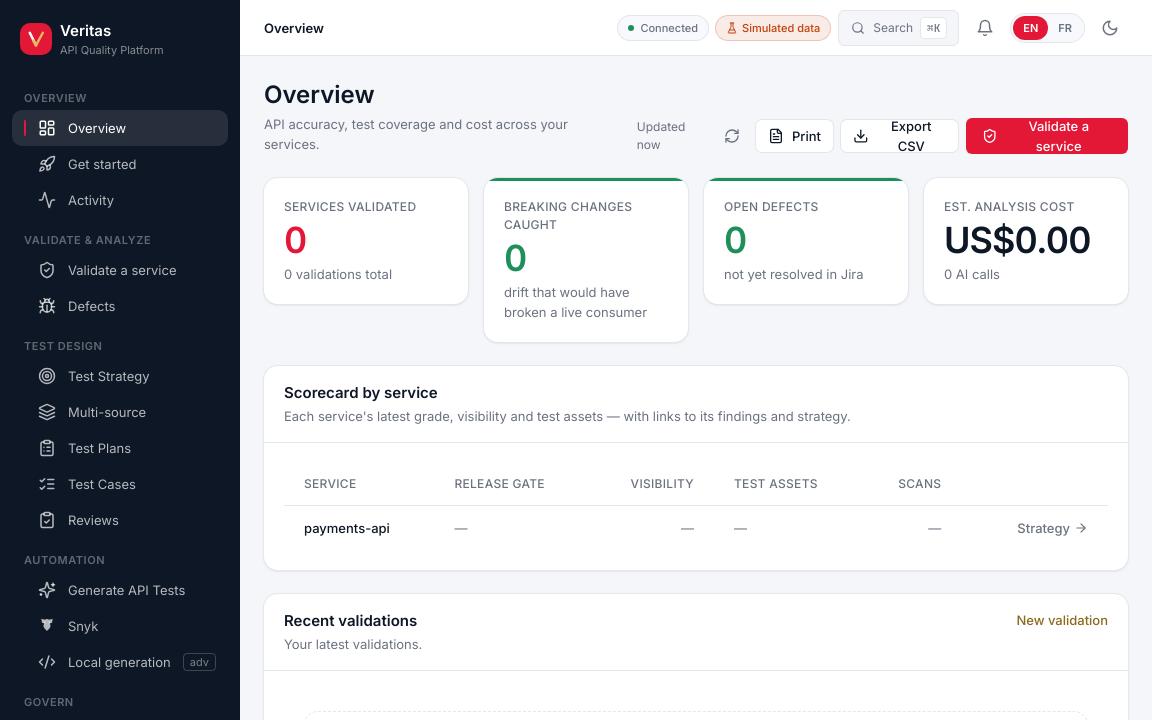
Scenario: Command palette › lists services from the catalog as jump targets
The image size is (1152, 720).
Expected: the heading "Overview" is shown, [264,80,374,109]
Click the button "Search ⌘K" at (899, 28), box [838,10,959,46]
(page scrolled)
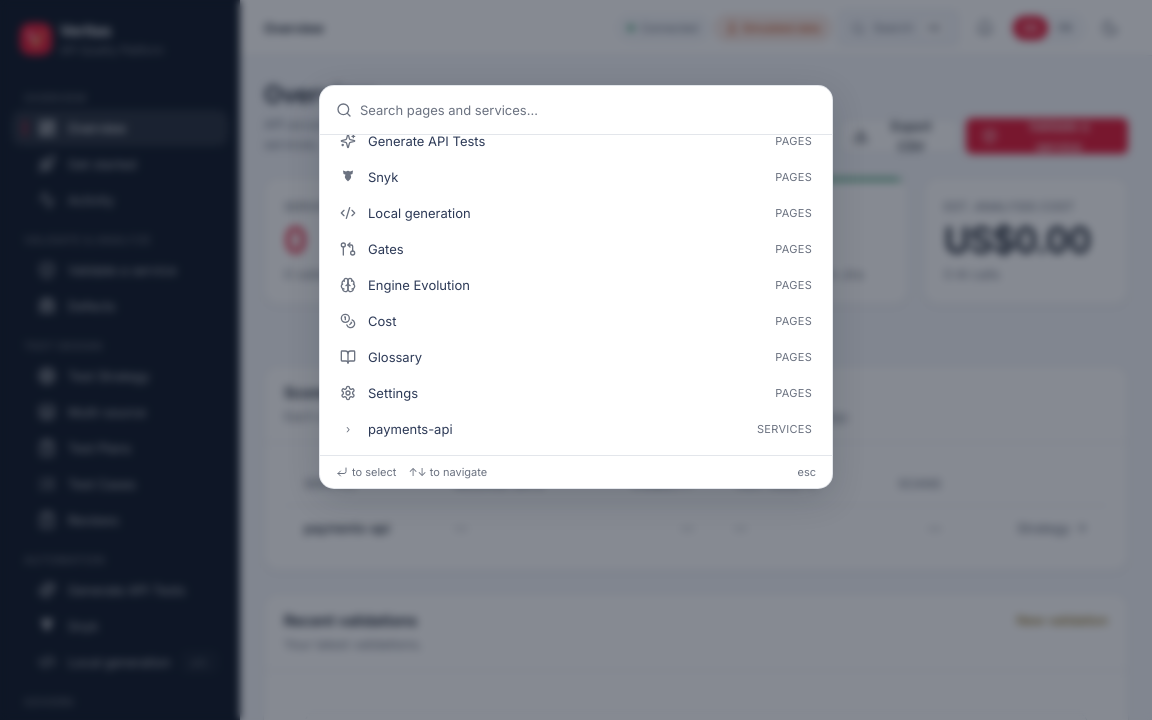
Expected: the text "payments-api" is shown, [368,421,452,437]
